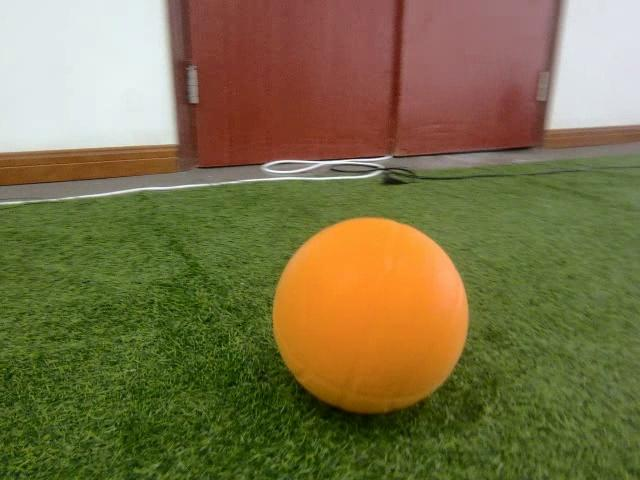orange_ball: (269, 213, 470, 415)
